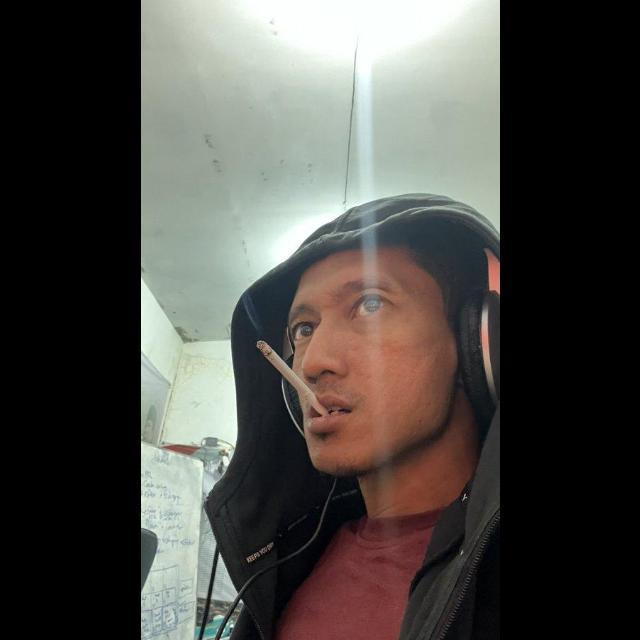rokok: (254, 332, 332, 422)
